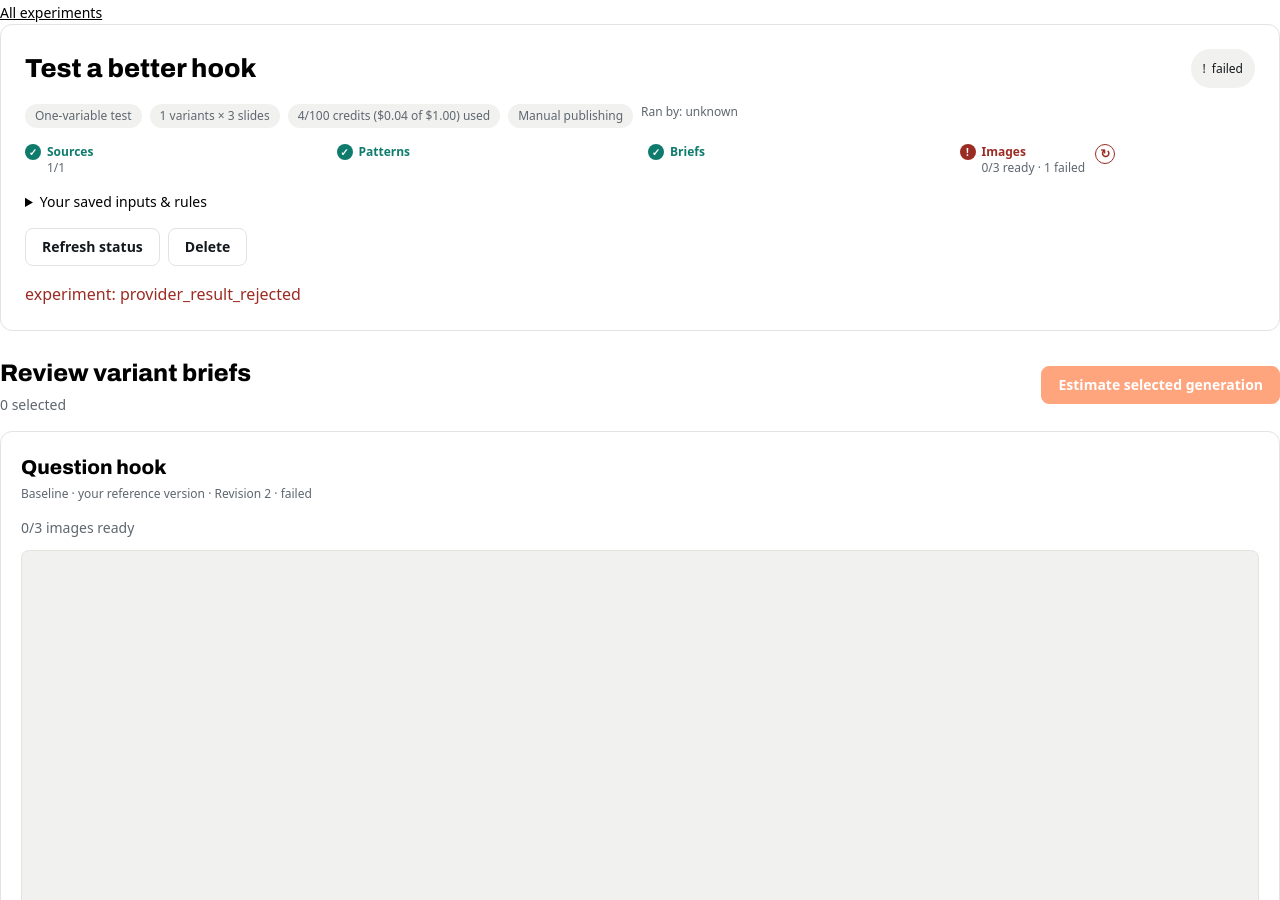
Scenario: shows a confirmed image rejection and retries inline from the pipeline
Check: the list item with aria-label "Images: failed" is shown, box [960, 142, 1115, 176]
Check: the text "experiment: provider_result_rejected" is shown, box [25, 283, 301, 305]
Click the button named "Retry Images" at (1105, 154), box [1095, 144, 1115, 164]
(page scrolled)
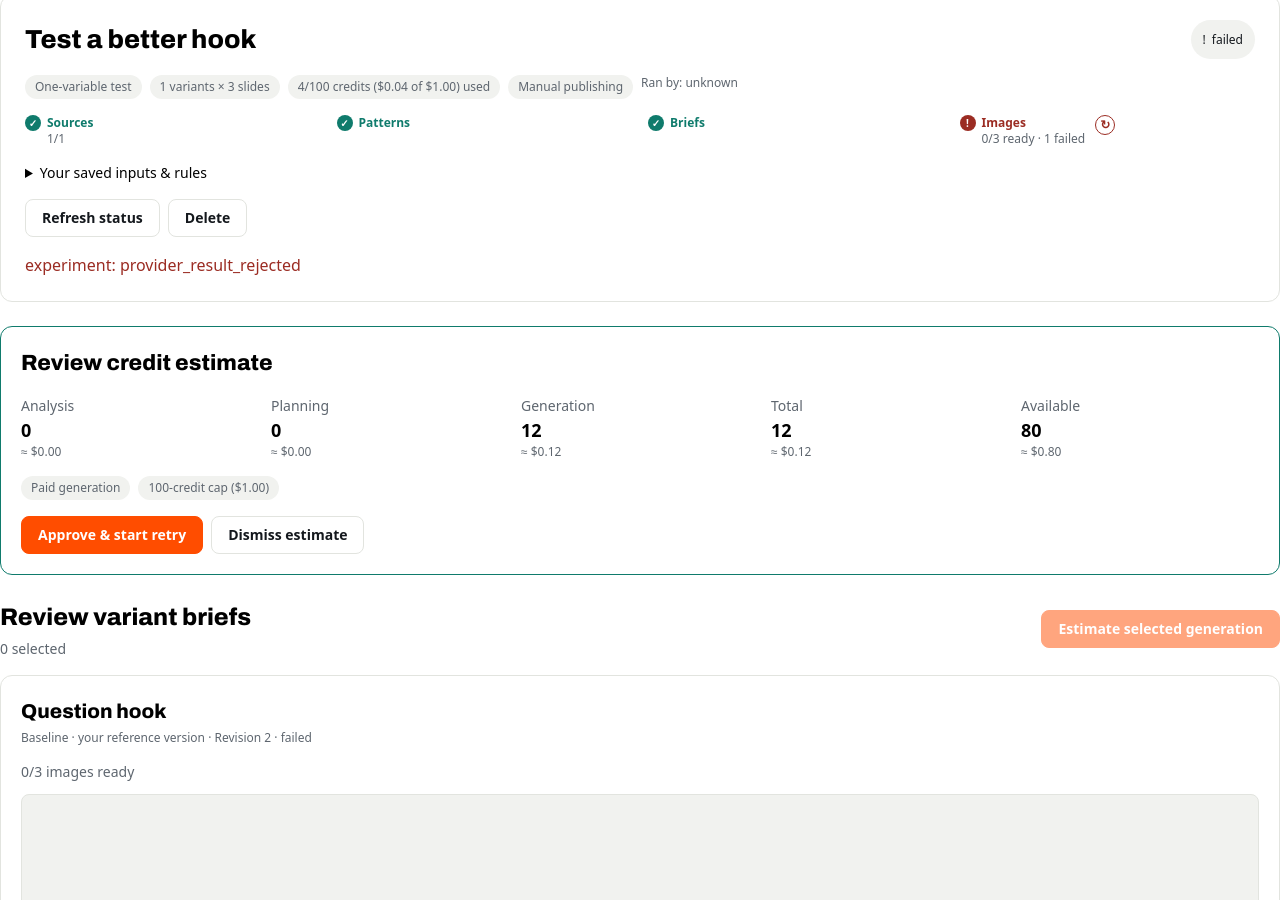
Check: the button "Approve & start retry" is enabled, box [21, 516, 203, 554]
